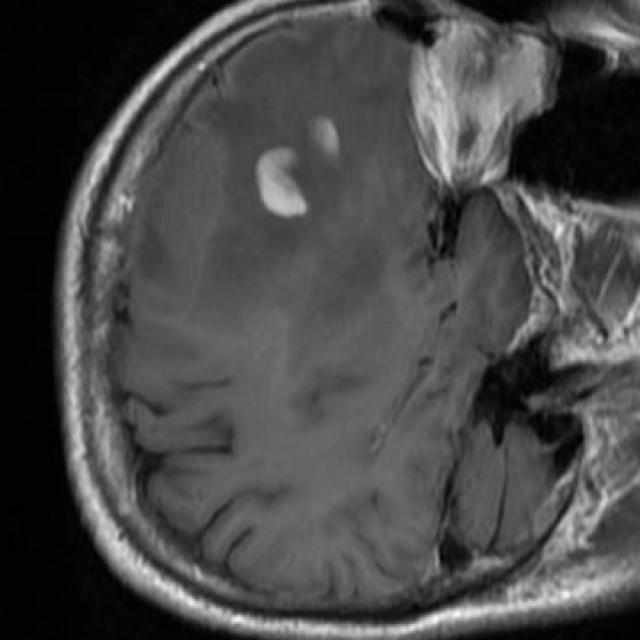glioma: (255, 118, 339, 219)
